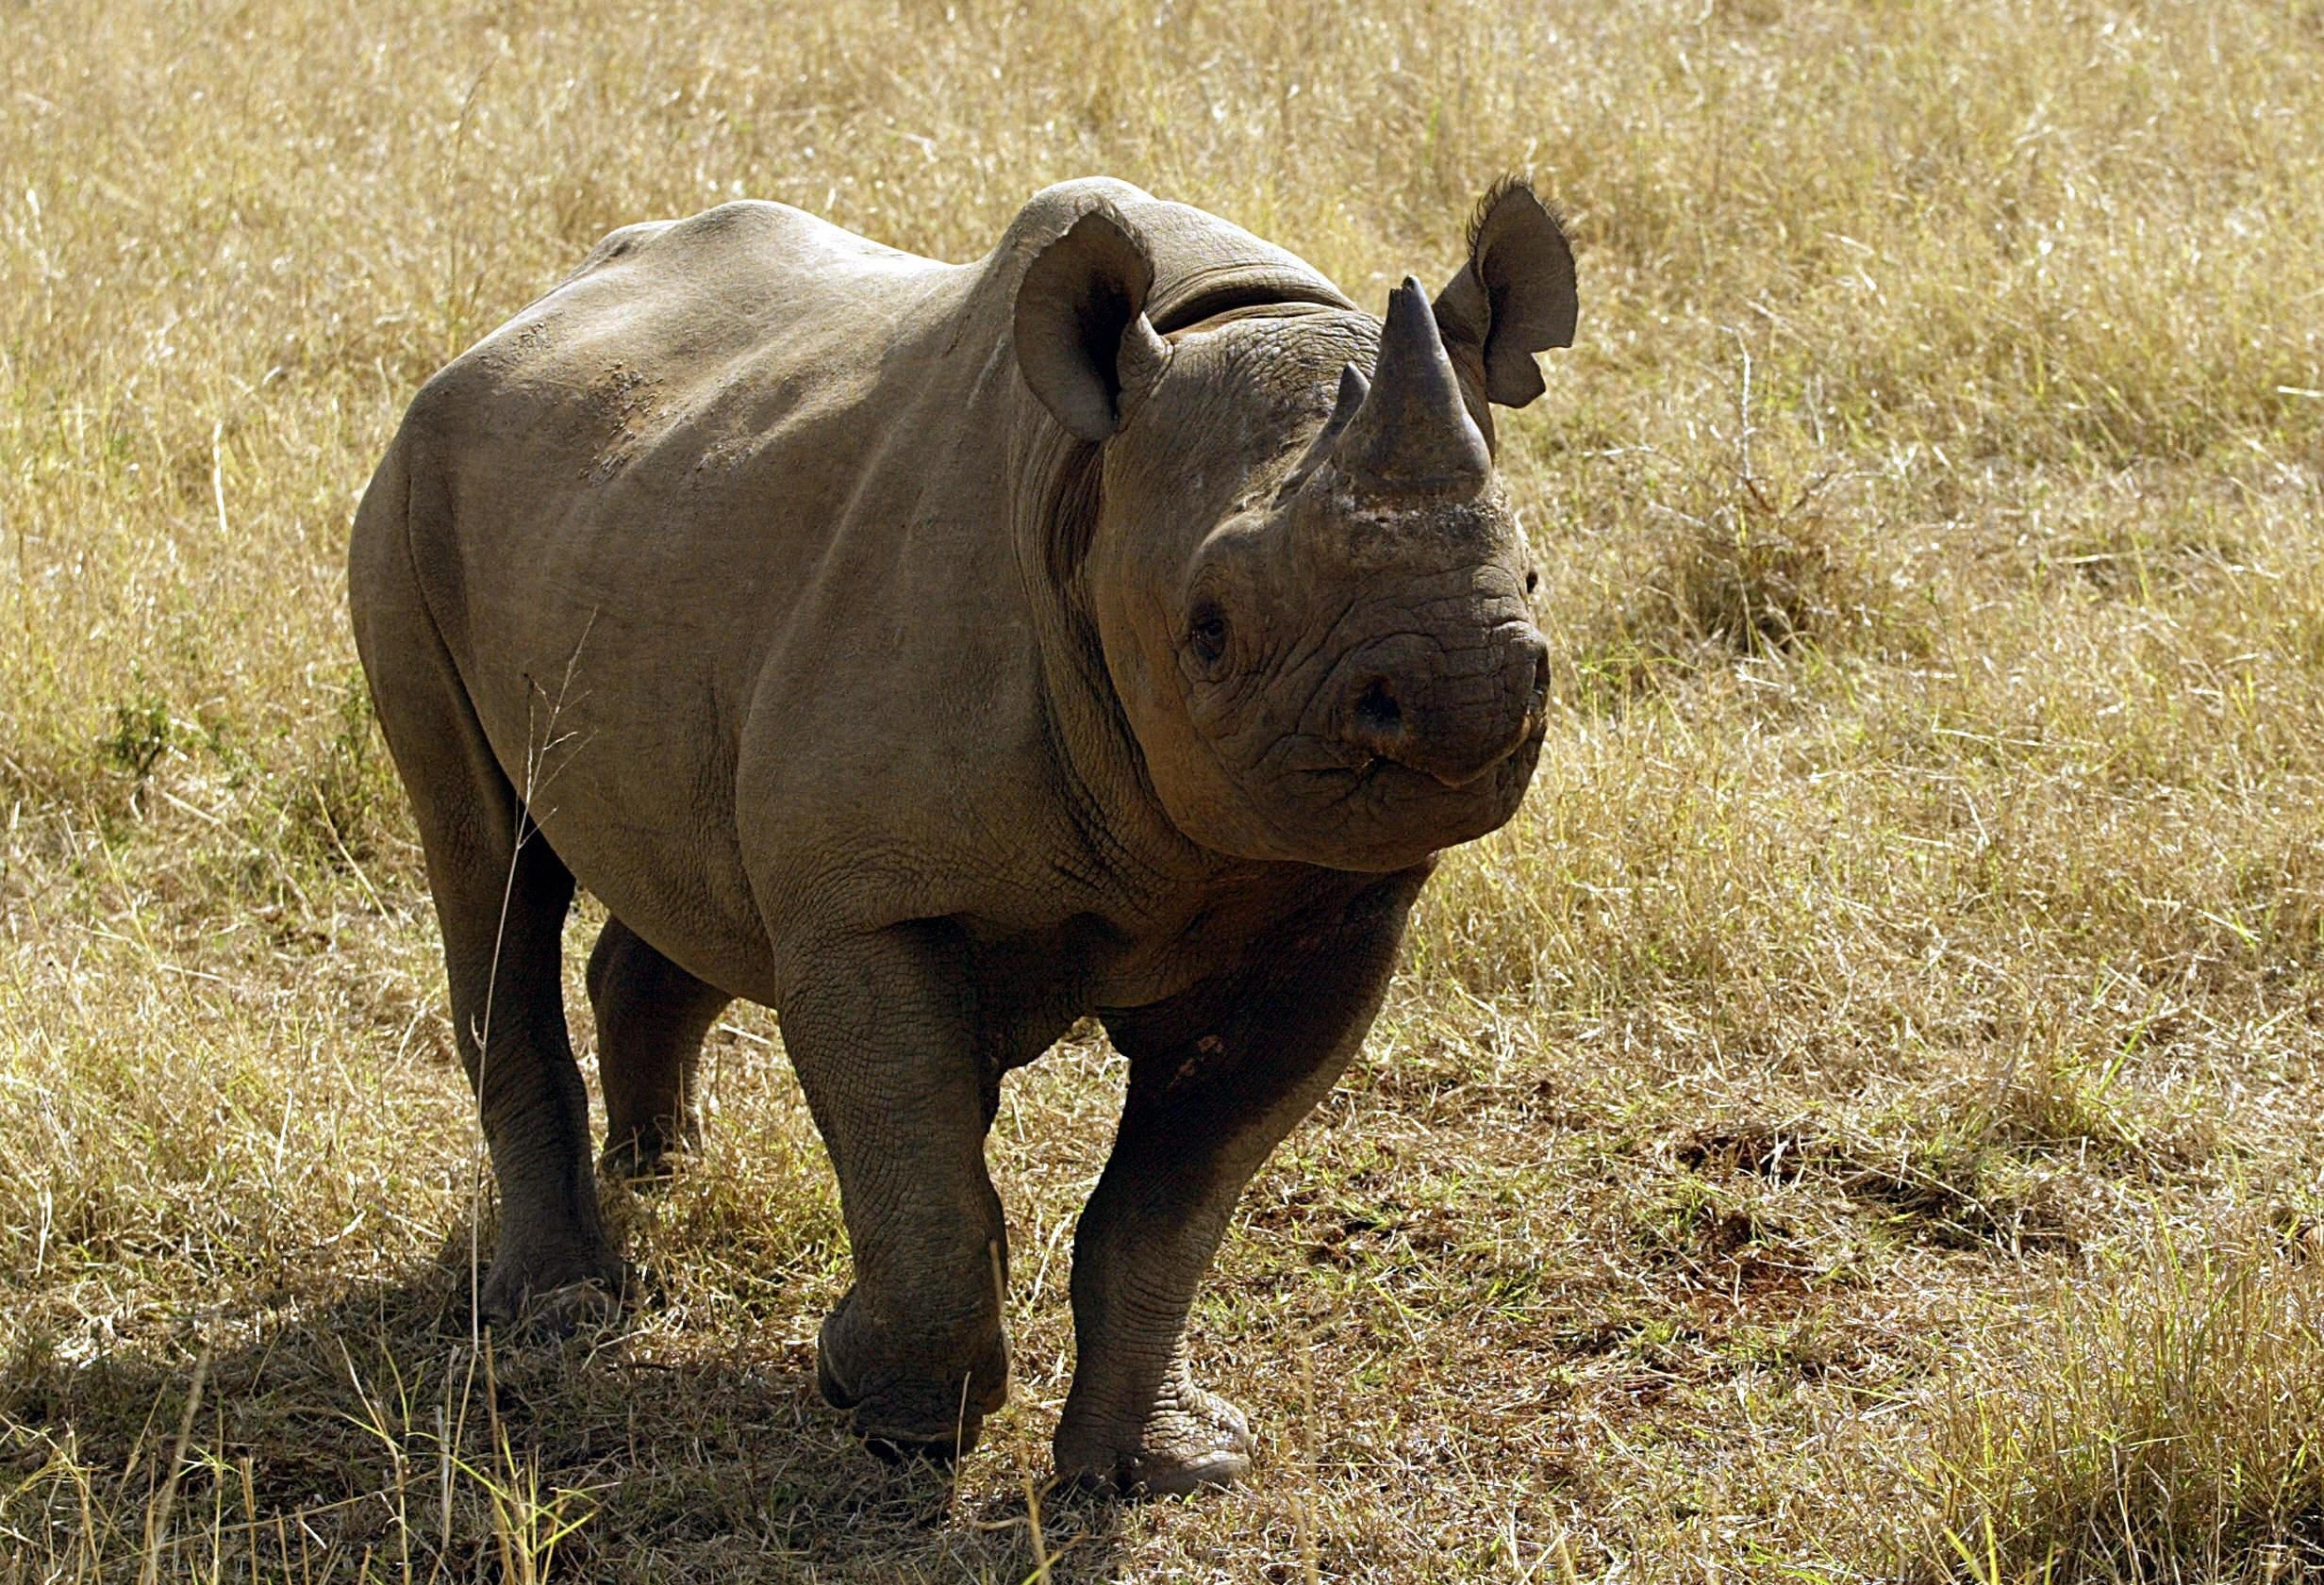rhino: (336, 159, 1588, 1476)
